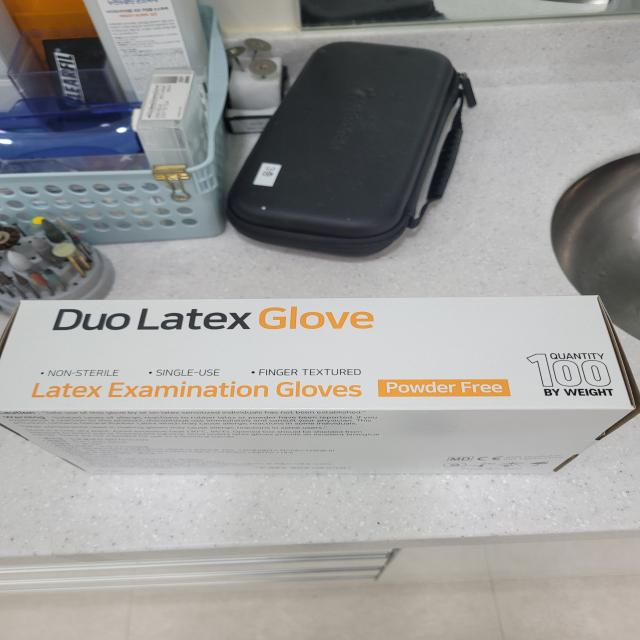glove: (6, 290, 640, 485)
